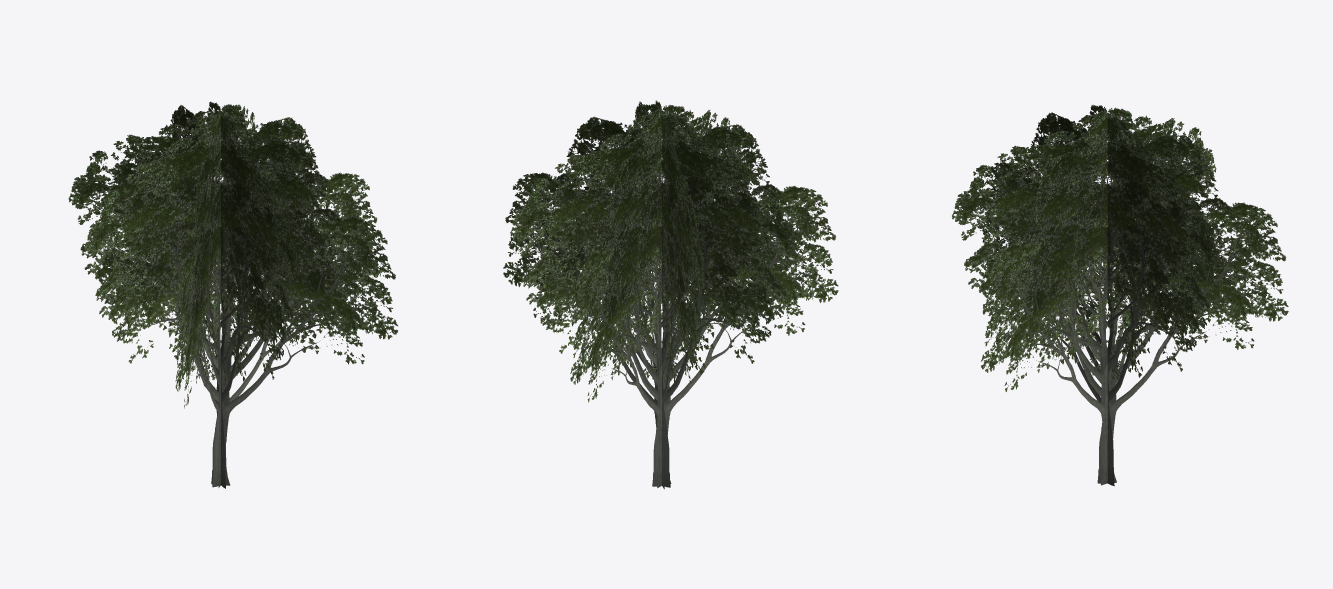
File: Tree_04_STATIC.fbx
3 views of the same model, side by side, from view 1: azimuth 30°, elevation 25°; view 2: azimuth 150°, elevation 25°; view 3: azimuth 270°, elevation 25° (orthographic).
Parts seen in each view (by area): view 1: Tree_04; view 2: Tree_04; view 3: Tree_04.
Part boxes in pixels (<box>): Tree_04: <box>68,101,397,488</box>; Tree_04: <box>503,100,838,489</box>; Tree_04: <box>952,105,1288,486</box>.
Bounding box in the file's own units: 1420 × 1420 × 1420.
